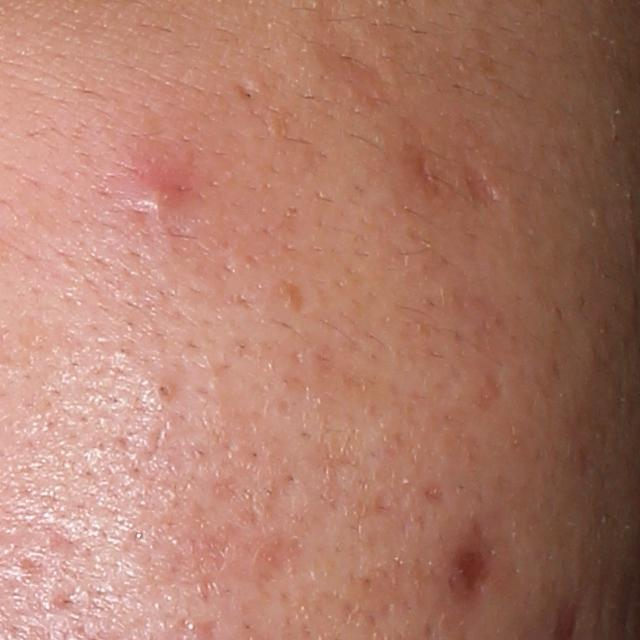atrophic_scar: (249, 533, 318, 590), (458, 159, 502, 210)
comedo: (150, 379, 174, 404)
